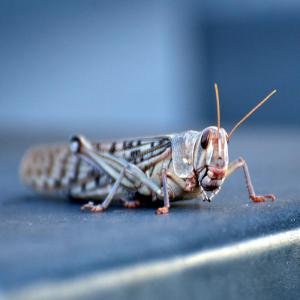locust: (16, 86, 280, 220)
